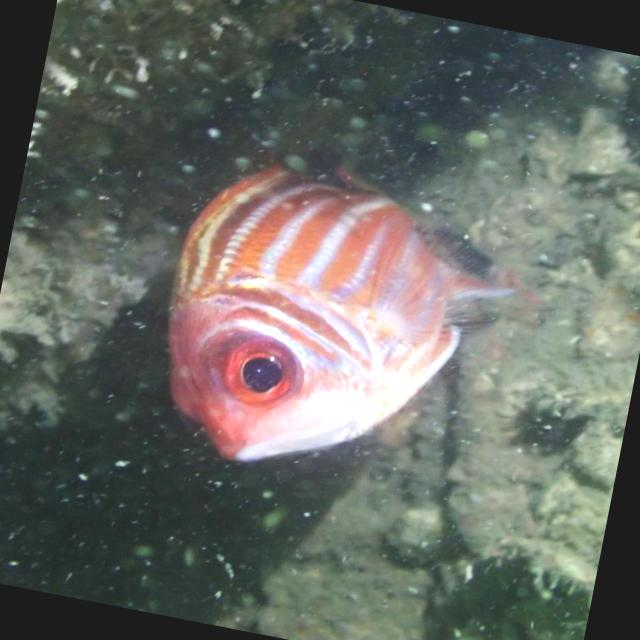Asker Baligi: (95, 120, 549, 532)
